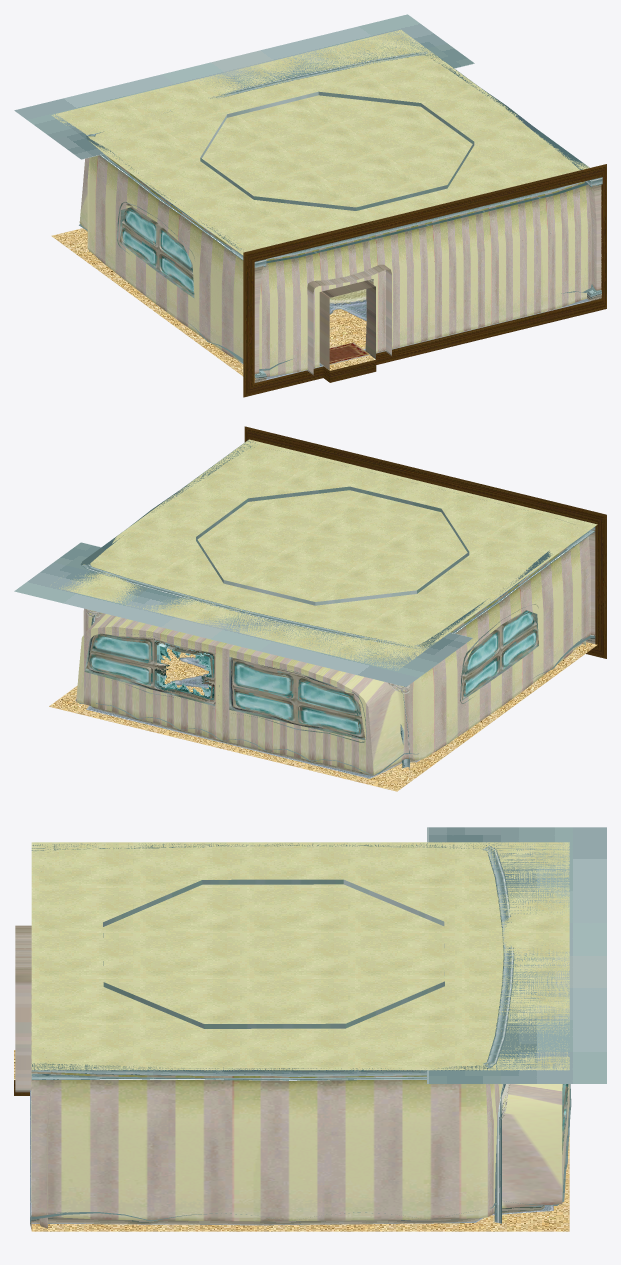
Rendered from room_33.glb.
3 renders of one model, top to bottom at view 1: azimuth 30°, elevation 25°; view 2: azimuth 150°, elevation 25°; view 3: azimuth 270°, elevation 25°, orthographic. The views are drawn at different scales.
Visible parts, largest first — view 1: room_33; view 2: room_33; view 3: room_33.
Part boxes in pixels (<box>): room_33: <box>14,14,606,397</box>; room_33: <box>14,426,606,791</box>; room_33: <box>14,827,606,1231</box>.
Size of the model in its own units: 1705 by 600 by 1665.
Materials: 24 (24 with a texture image).
